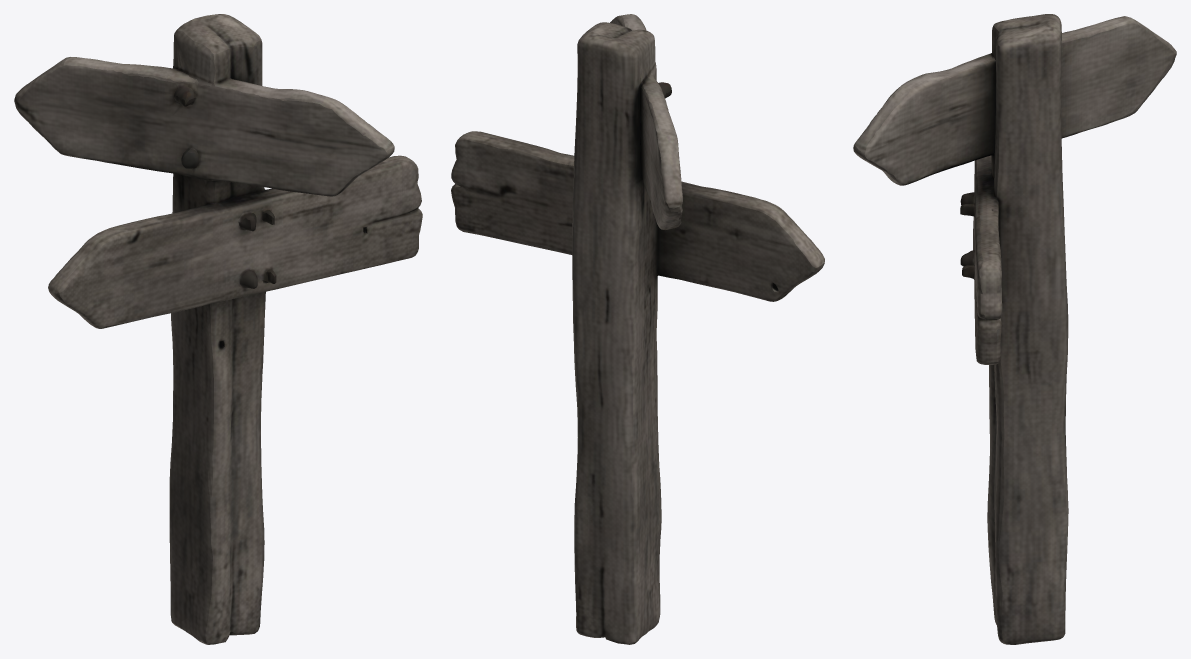
3 views of the same model, side by side, from view 1: azimuth 30°, elevation 25°; view 2: azimuth 150°, elevation 25°; view 3: azimuth 270°, elevation 25° (orthographic).
Visible parts, largest first — view 1: world; view 2: world; view 3: world.
Boxes of the visible parts, x1=… form: world: x1=14, y1=14, x2=422, y2=644; world: x1=451, y1=14, x2=824, y2=644; world: x1=853, y1=14, x2=1176, y2=644.
Bounding box in the file's own units: 1.8 × 2.82 × 1.36.
Materials: 1 (1 with a texture image).
